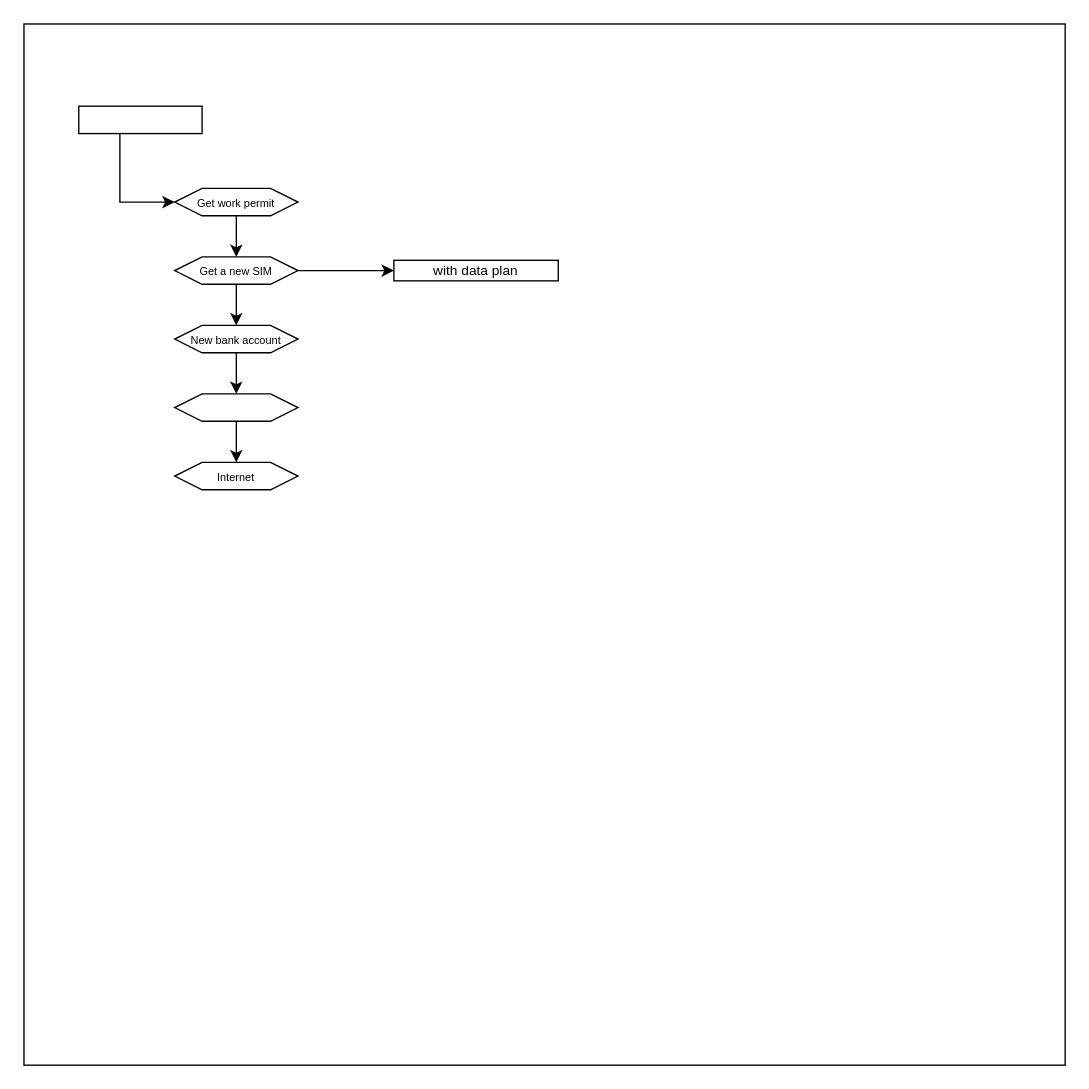
Some shapes in this 1089 by 1089 pixel diagram are drawn without their labels. The shapes that lost their labels are listed below. From the top down, each one's box as (x1, y1, x2, y2) in pixels, then its label:
(77, 105, 202, 134): Travel
(173, 393, 298, 421): Short term house
